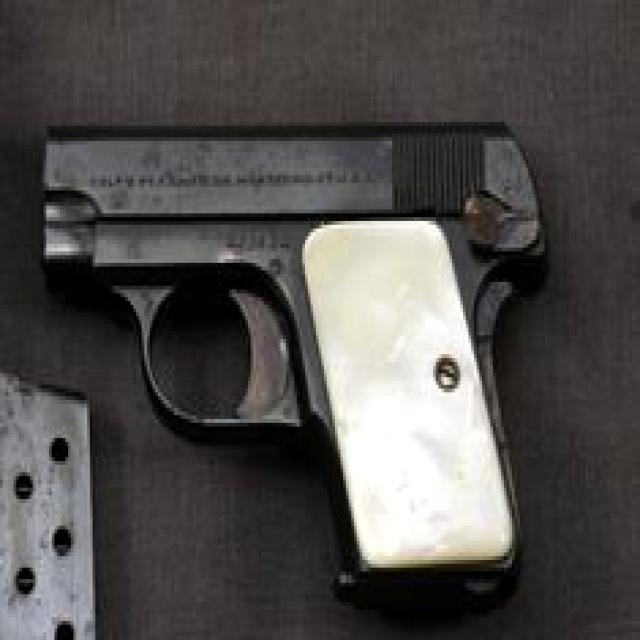semi automatic: (28, 94, 570, 630)
